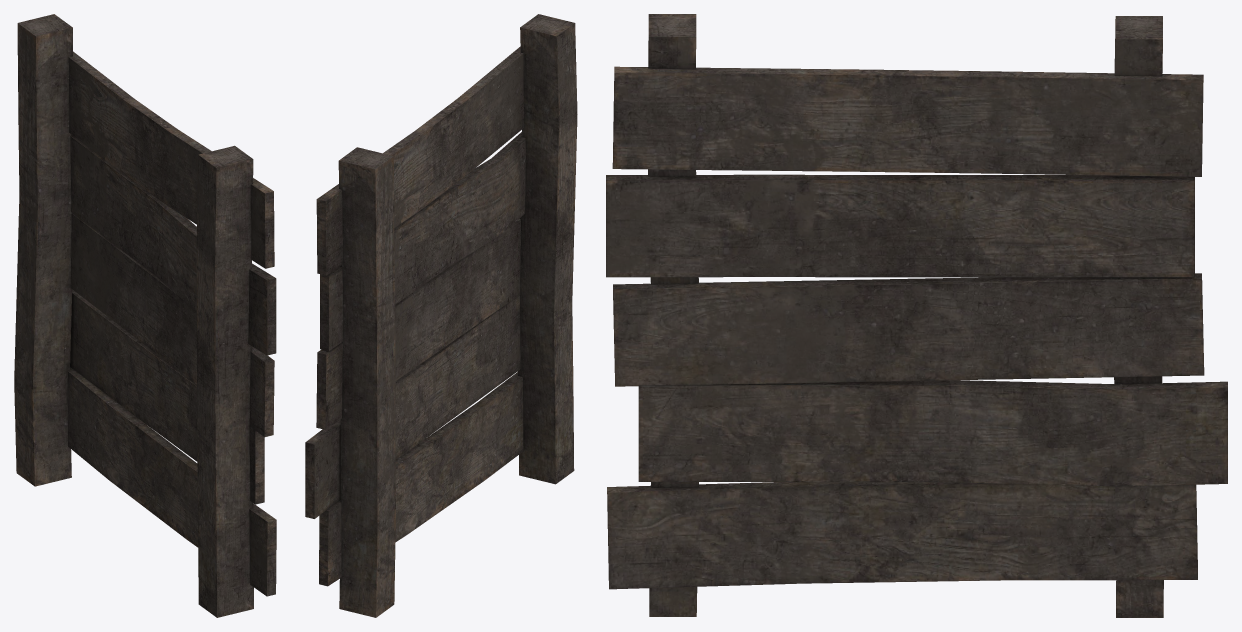
The model's file is SM_WoodBoards_2x2_01.glb.
The picture shows the model from 3 angles, left to right: view 1: azimuth 30°, elevation 25°; view 2: azimuth 150°, elevation 25°; view 3: azimuth 270°, elevation 25°; orthographic projection. The views are drawn at different scales.
Visible parts, largest first — view 1: SM_WoodBoards_2x2_01; view 2: SM_WoodBoards_2x2_01; view 3: SM_WoodBoards_2x2_01.
Part boxes in pixels (bbox=[...]): SM_WoodBoards_2x2_01: bbox=[14, 14, 276, 617]; SM_WoodBoards_2x2_01: bbox=[305, 14, 577, 617]; SM_WoodBoards_2x2_01: bbox=[606, 14, 1227, 617].
Bounding box in the file's own units: 0.2041 × 1.76 × 1.71.
1 material, 1 textured.
